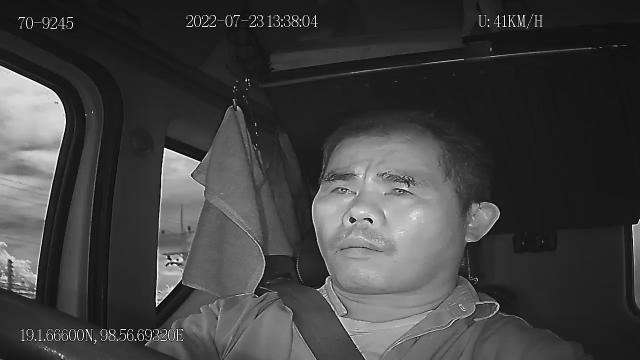SafeDriving: (376, 175, 420, 204), (322, 174, 362, 202)
Seatbelt: (258, 278, 368, 360)
